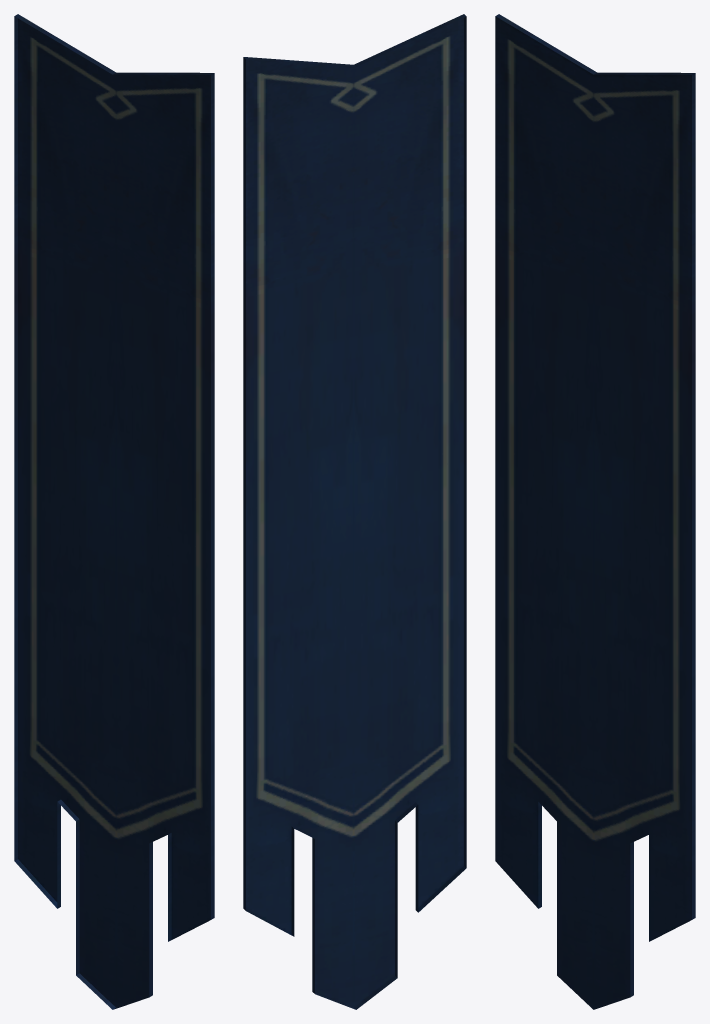
File: Indoor_MdProps_Knightoffice_Flag01_Vo_1453_3.fbx
3 views of the same model, side by side, from view 1: azimuth 90°, elevation 25°; view 2: azimuth 150°, elevation 25°; view 3: azimuth 270°, elevation 25° (orthographic).
Parts seen in each view (by area): view 1: Indoor_MdProps_Knightoffice_Flag01_Vo_1453_3; view 2: Indoor_MdProps_Knightoffice_Flag01_Vo_1453_3; view 3: Indoor_MdProps_Knightoffice_Flag01_Vo_1453_3.
Part boxes in pixels (box(x1,y1,x2,y2)): Indoor_MdProps_Knightoffice_Flag01_Vo_1453_3: box(14, 14, 214, 1009); Indoor_MdProps_Knightoffice_Flag01_Vo_1453_3: box(243, 14, 466, 1009); Indoor_MdProps_Knightoffice_Flag01_Vo_1453_3: box(495, 14, 695, 1009).
Bounding box in the file's own units: 0.7971 × 5.87 × 1.1.
